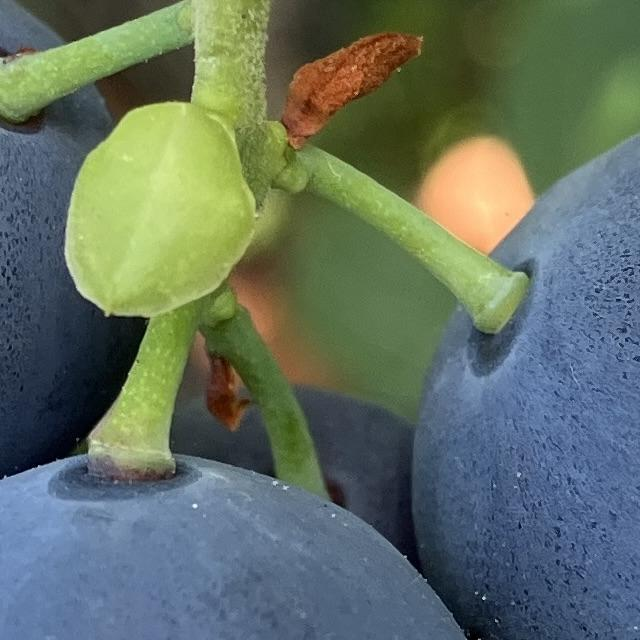Blueberries: (404, 88, 640, 640), (0, 442, 507, 640)
